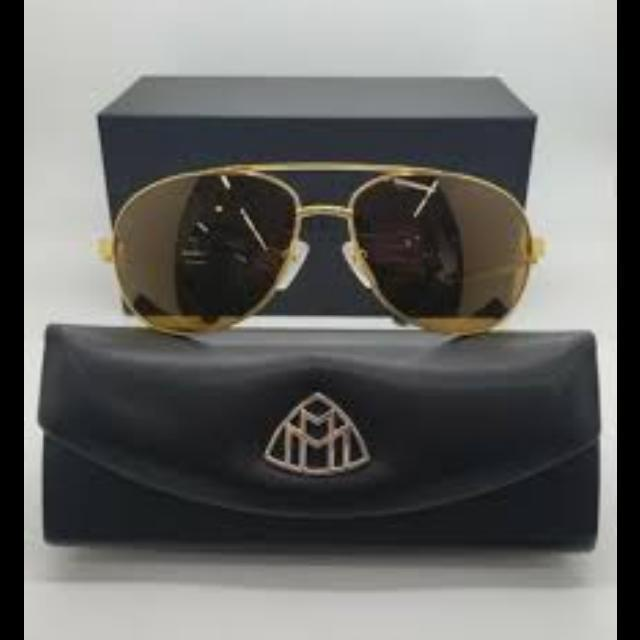sunglasses: (82, 148, 540, 344)
